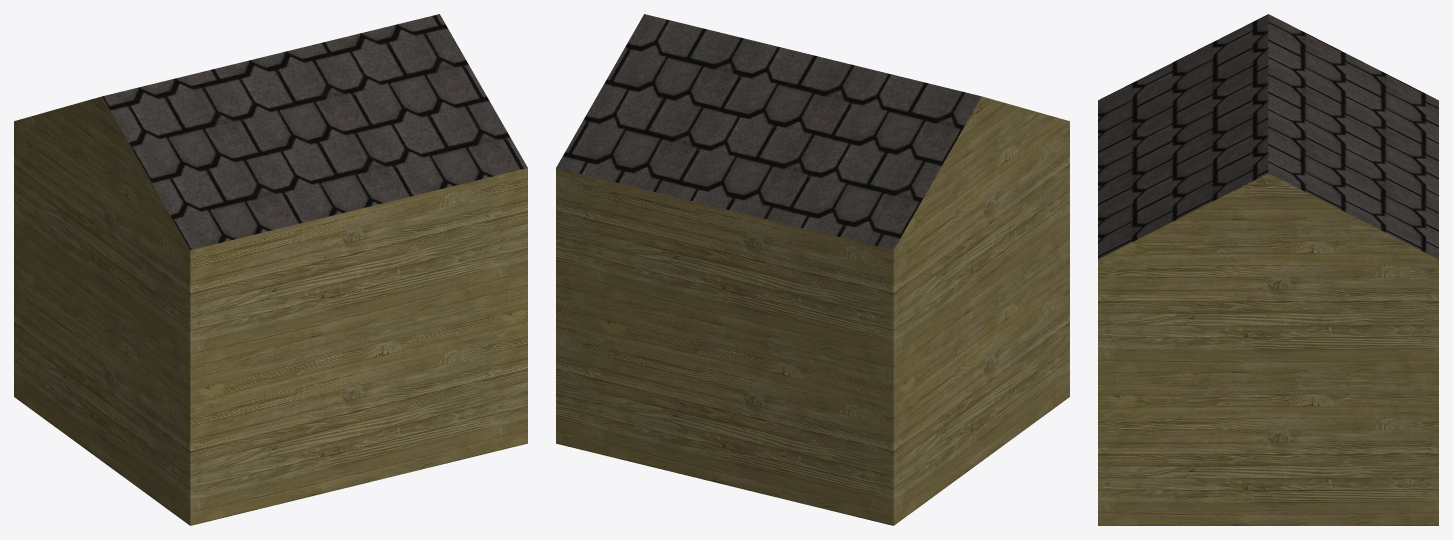
The picture shows the model from 3 angles, left to right: view 1: azimuth 30°, elevation 25°; view 2: azimuth 150°, elevation 25°; view 3: azimuth 270°, elevation 25°; orthographic projection. The views are drawn at different scales.
Visible parts, largest first — view 1: 29508; view 2: 29508; view 3: 29508.
Part boxes in pixels (x1,y1,x2,y2): 29508: (14,14,527,525); 29508: (556,14,1069,525); 29508: (1098,14,1438,525).
Bounding box in the file's own units: 1.7 × 1.76 × 1.54.
Materials: 7 (6 with a texture image).
